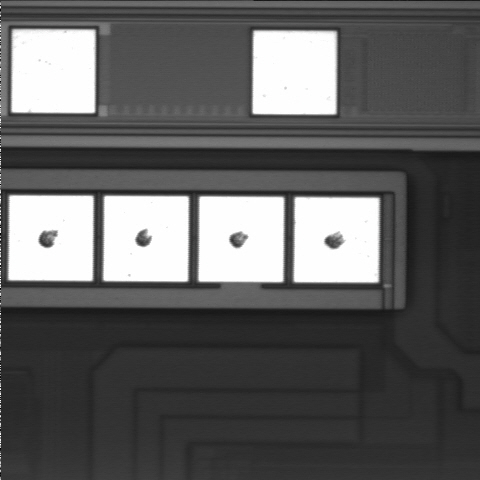pad: (104, 196, 189, 281), (199, 197, 284, 282), (294, 197, 379, 282), (9, 196, 93, 281), (12, 30, 95, 113), (253, 31, 336, 114)
